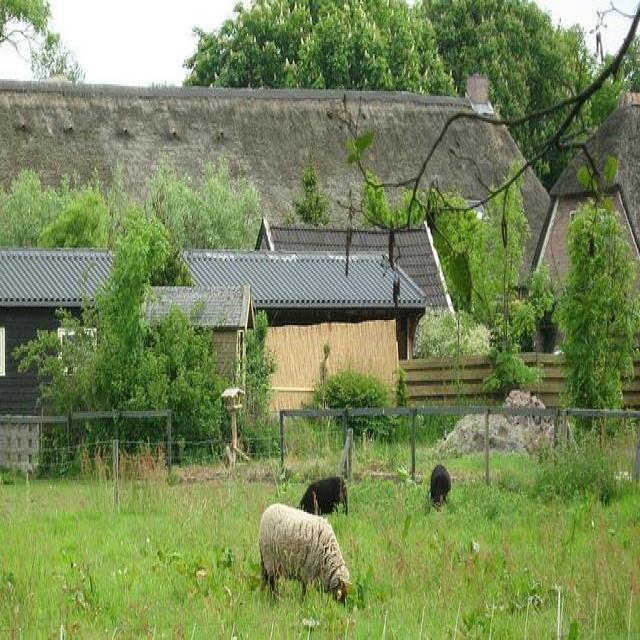Sheep: (257, 504, 352, 612)
